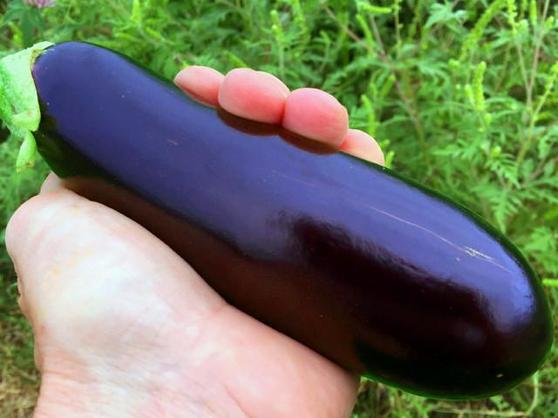eggplant: (6, 41, 545, 388)
